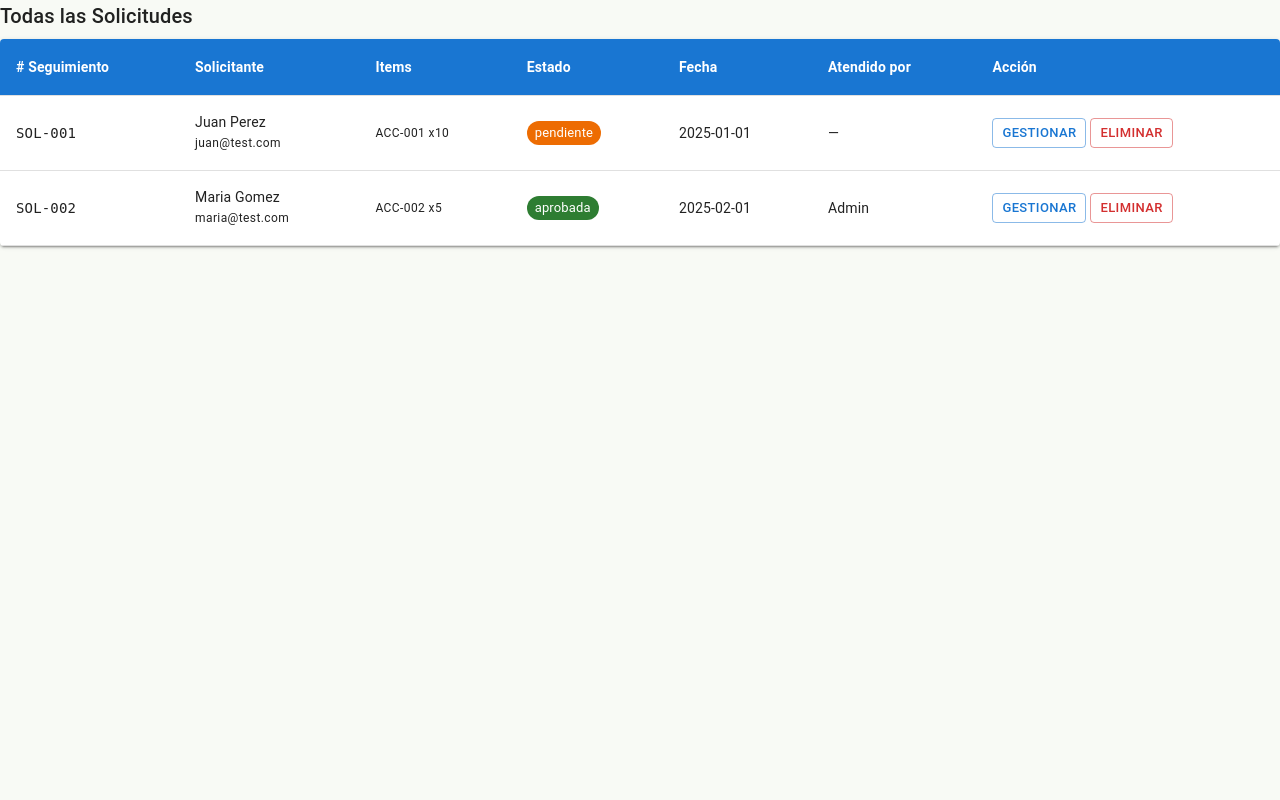
Test case: SolicitudesTable › API error on update shows error notification
Click the button "Gestionar" in the row of "SOL-001" at (1039, 133), box [992,118,1086,148]
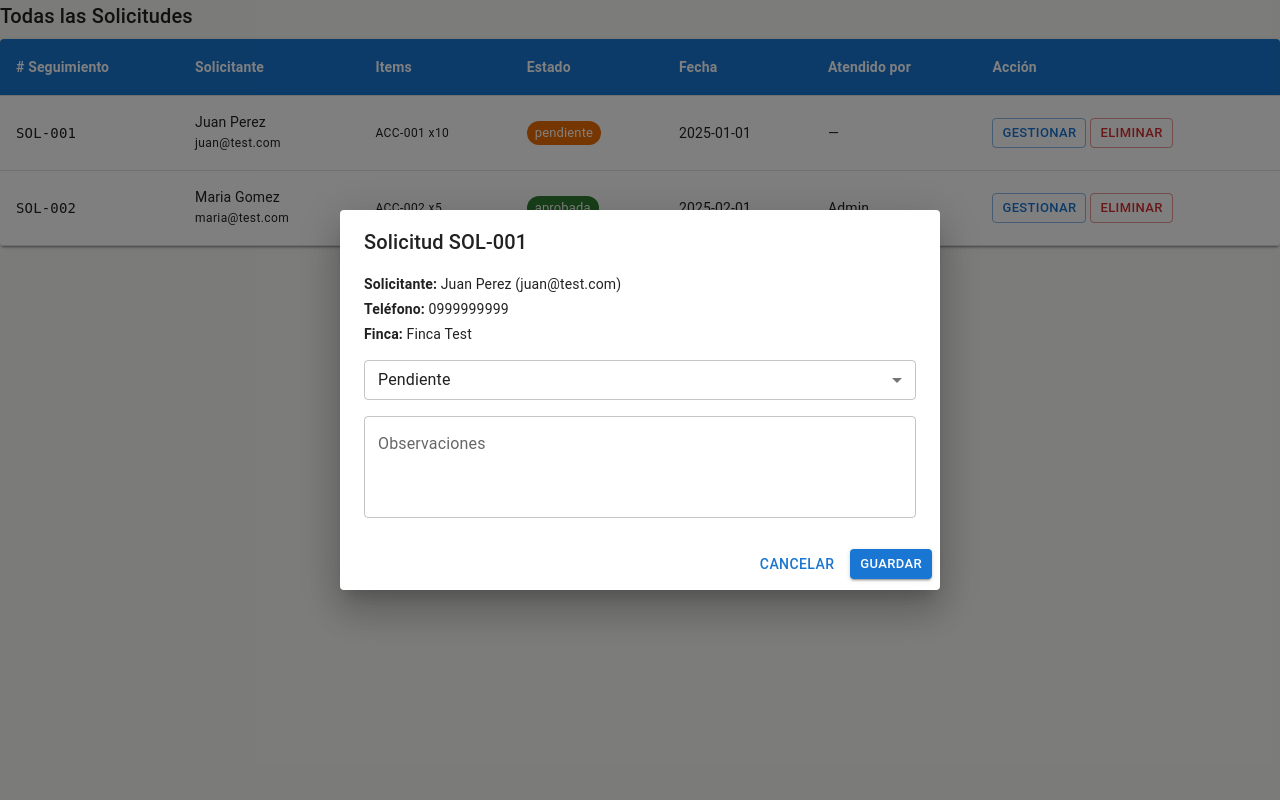
Click the button "Guardar" at (891, 564), box [850,548,932,579]
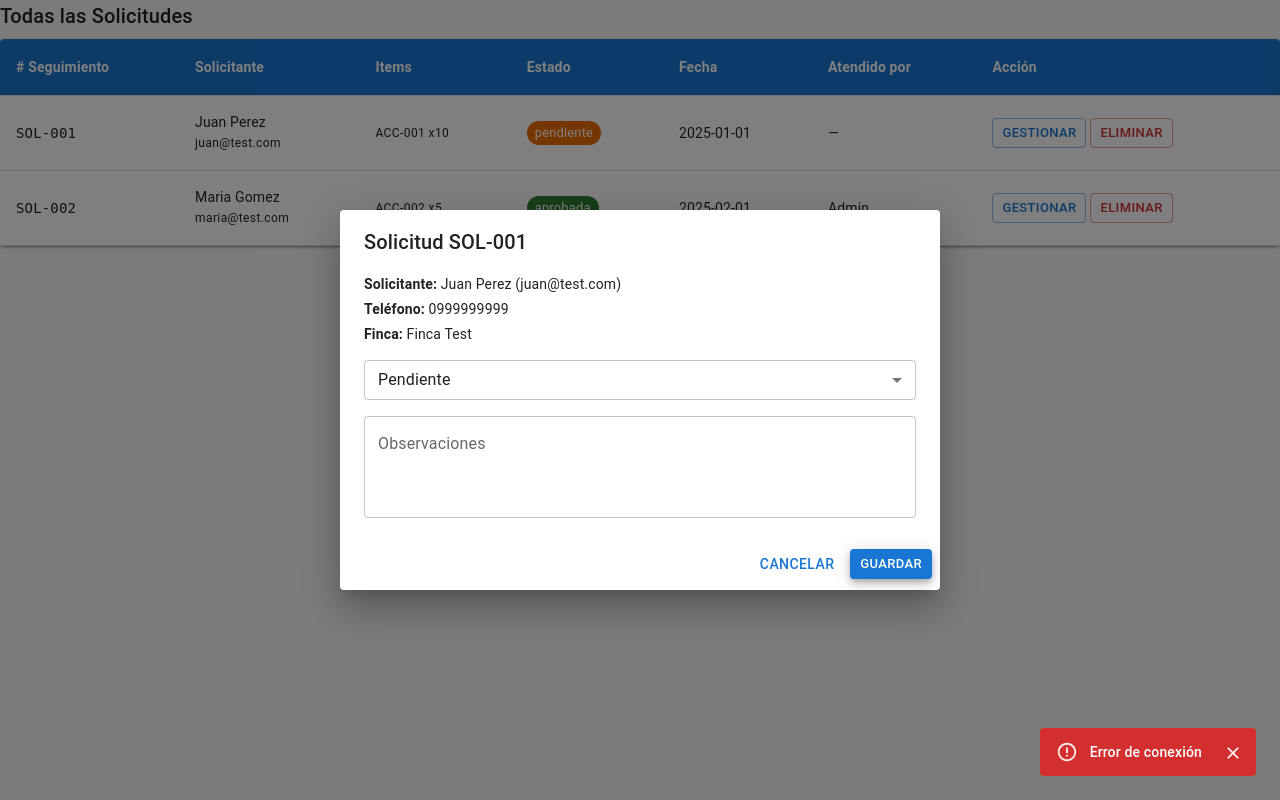
Check: the text "Error de conexión" is shown, box [1090,744,1202,760]
